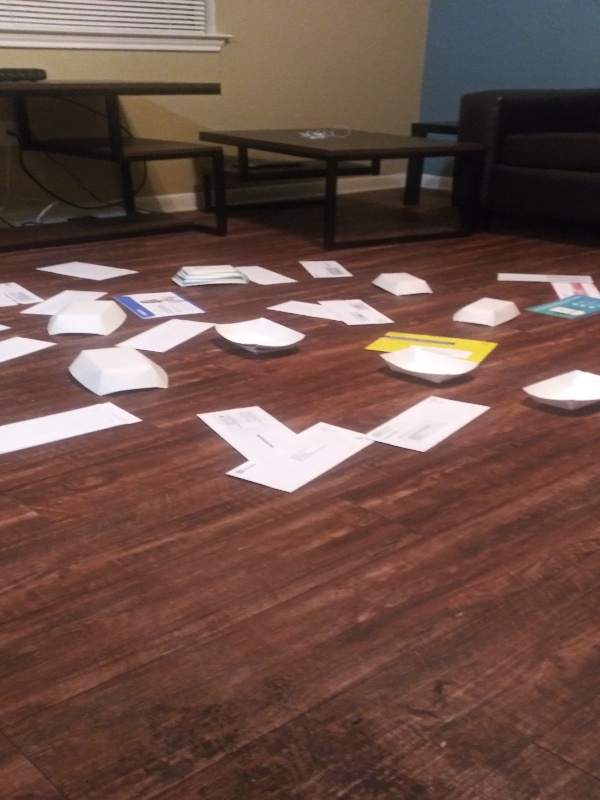plate: (65, 345, 173, 401), (371, 342, 480, 391), (209, 316, 309, 359), (519, 367, 600, 419), (43, 297, 128, 342), (169, 259, 252, 291), (448, 296, 526, 330), (367, 268, 437, 299)
